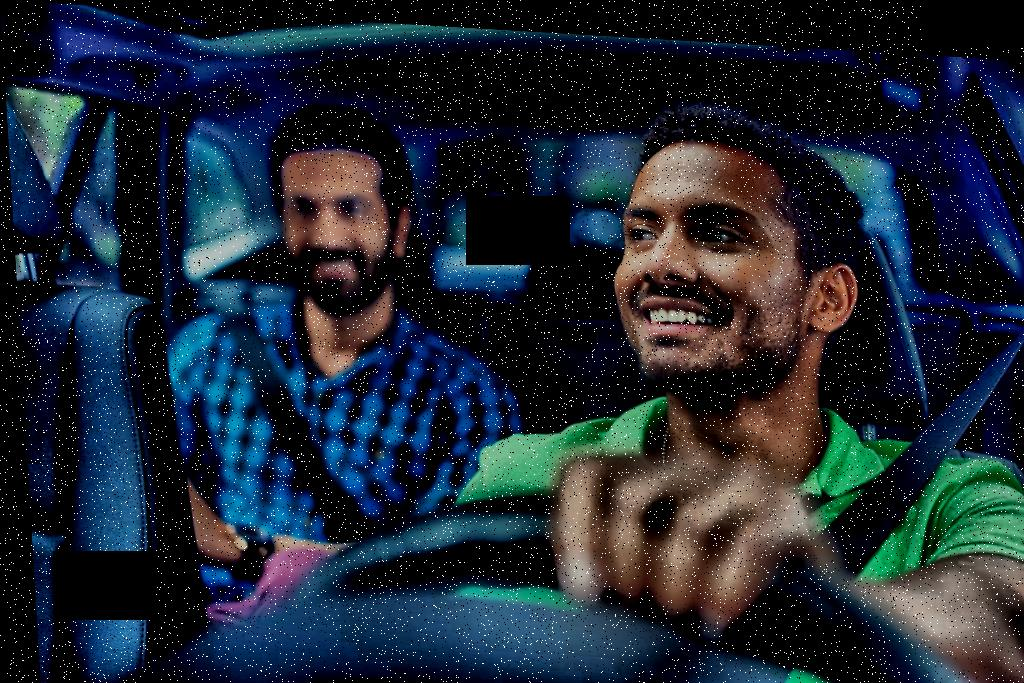seatbelt: (684, 282, 1024, 683), (203, 266, 363, 537)
